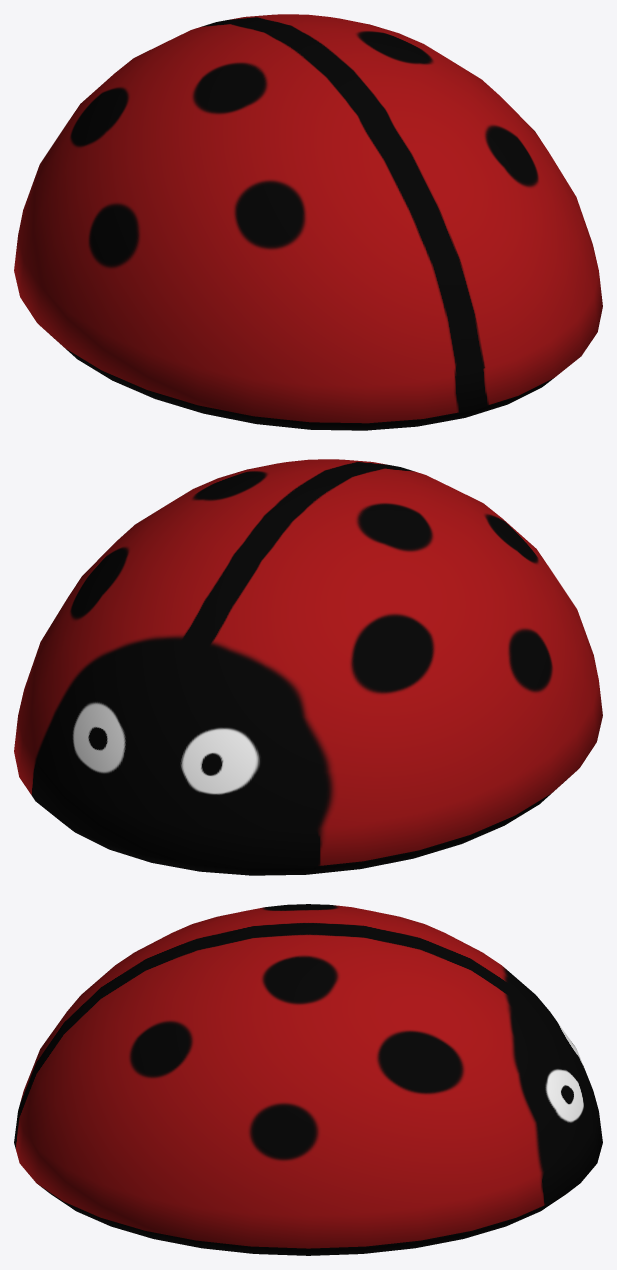
Rendered from Ladybug.fbx.
The picture shows the model from 3 angles, top to bottom: view 1: azimuth 30°, elevation 25°; view 2: azimuth 150°, elevation 25°; view 3: azimuth 270°, elevation 25°; orthographic projection. The views are drawn at different scales.
Visible parts, largest first — view 1: Ladybug; view 2: Ladybug; view 3: Ladybug.
Boxes of the visible parts, x1=… form: Ladybug: x1=14, y1=14, x2=602, y2=430; Ladybug: x1=14, y1=459, x2=602, y2=875; Ladybug: x1=14, y1=904, x2=602, y2=1255.
Bounding box in the file's own units: 0.3978 × 0.3381 × 0.17.
Materials: 1 (1 with a texture image).
